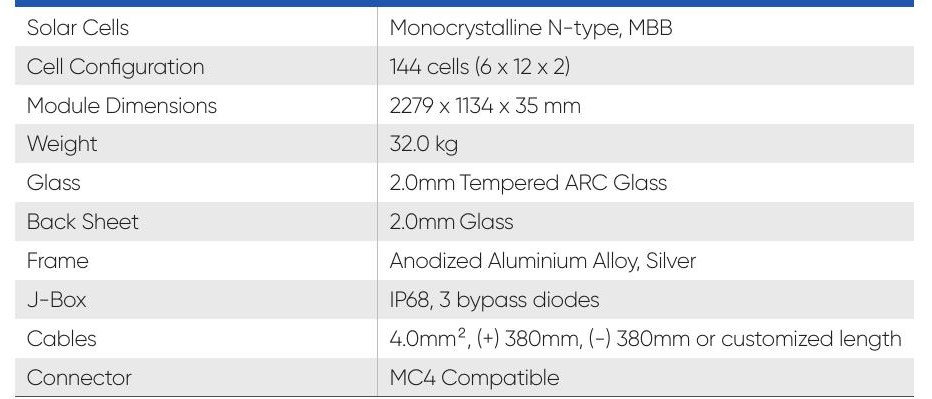table: (5, 1, 930, 399)
table column: (385, 3, 915, 397), (18, 3, 373, 393)
table row: (11, 166, 920, 204), (10, 48, 920, 85), (12, 283, 919, 319), (9, 323, 925, 357), (13, 9, 914, 42), (8, 362, 926, 394), (8, 89, 925, 121), (11, 128, 920, 160), (13, 245, 922, 277), (13, 208, 920, 239)
